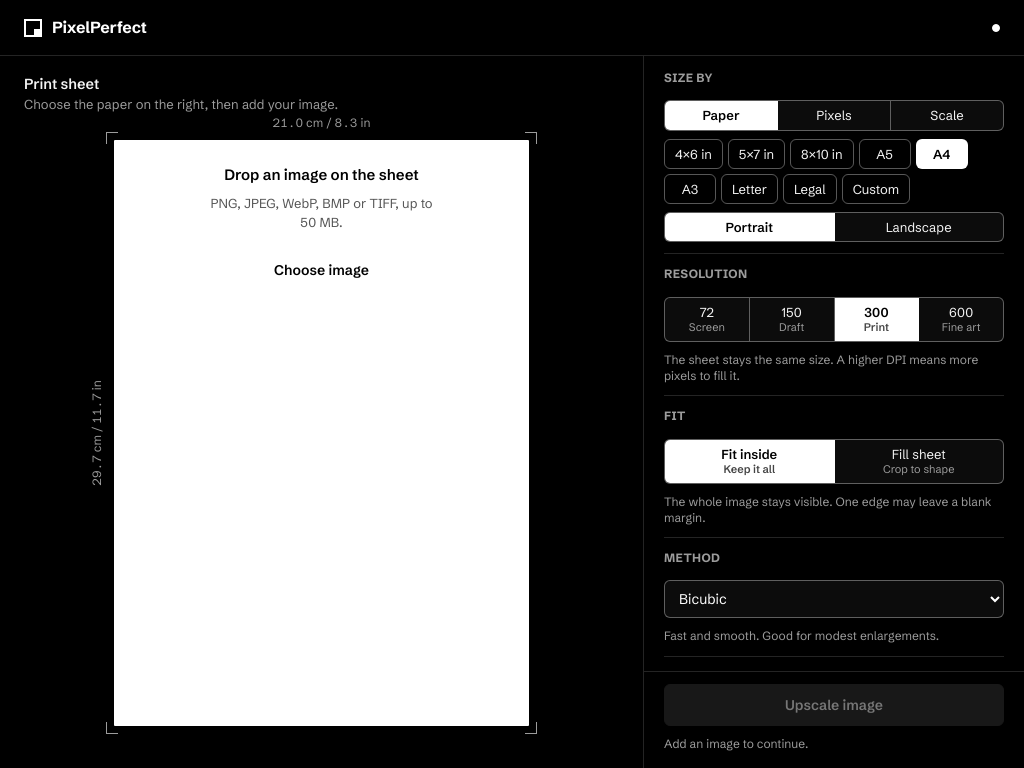
Scenario: paper sizing › converts custom sizes when the unit changes
This screenshot has width=1024, height=768.
Click the radio button labelled "Custom" at (876,189), box x1=842 y1=174 x2=910 y2=204
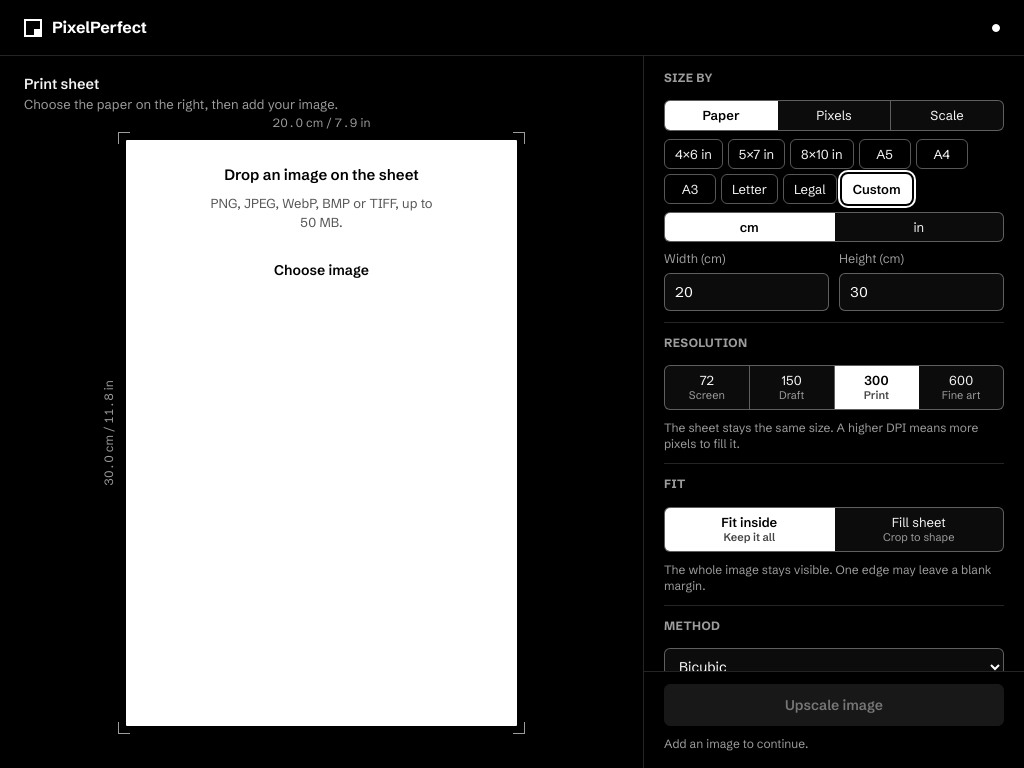
Check: the number field labelled "Width (cm)" holds "20", box x1=664 y1=272 x2=829 y2=310
Click the radio button labelled "in" at (919,227), box x1=913 y1=219 x2=924 y2=235
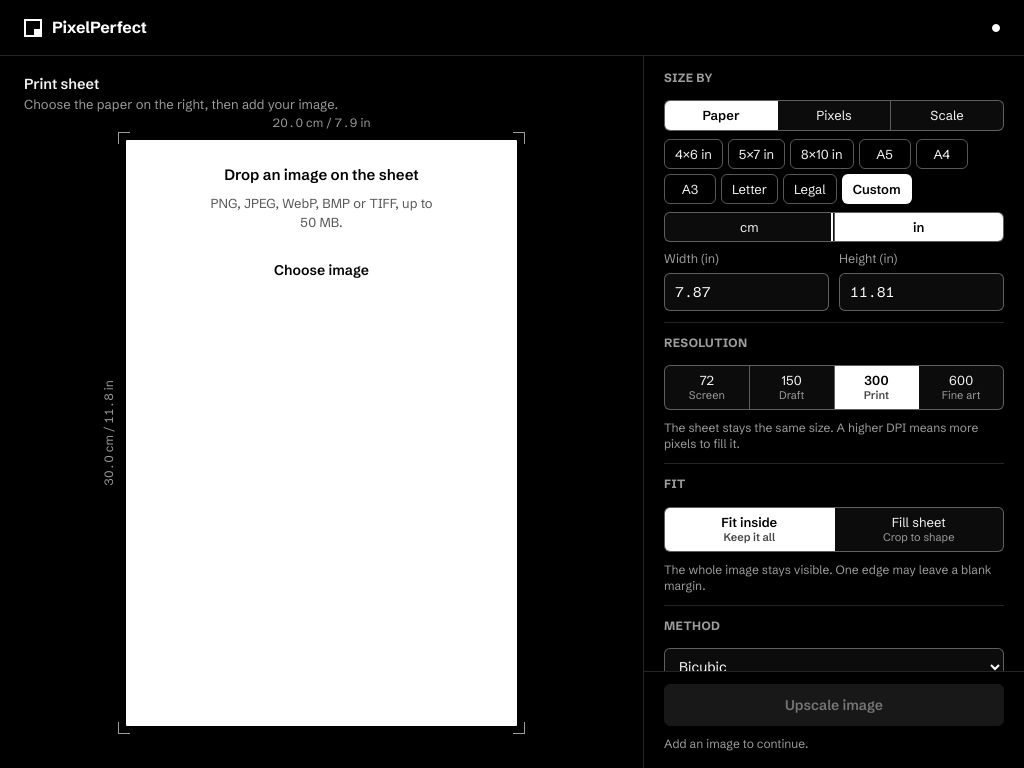
Check: the number field labelled "Width (in)" holds "7.87", box x1=664 y1=272 x2=829 y2=310
